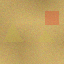structure: (3, 22, 23, 41), (36, 29, 53, 41)
vehicle: (45, 11, 59, 25)
